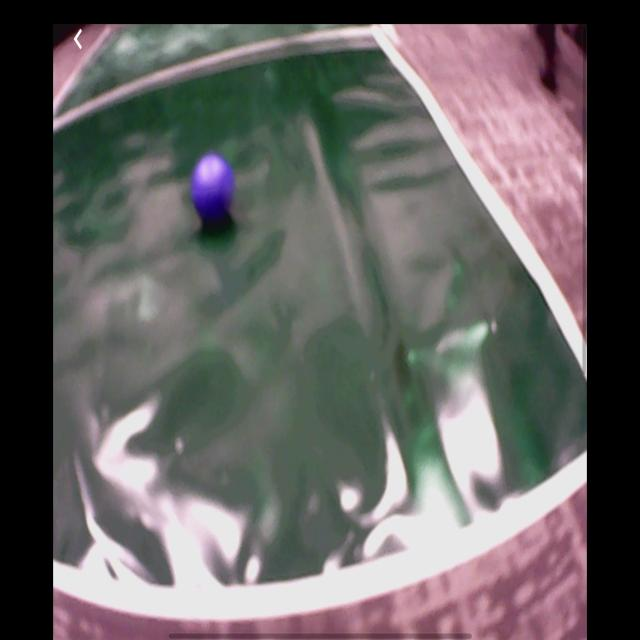ball: (192, 155, 234, 225)
